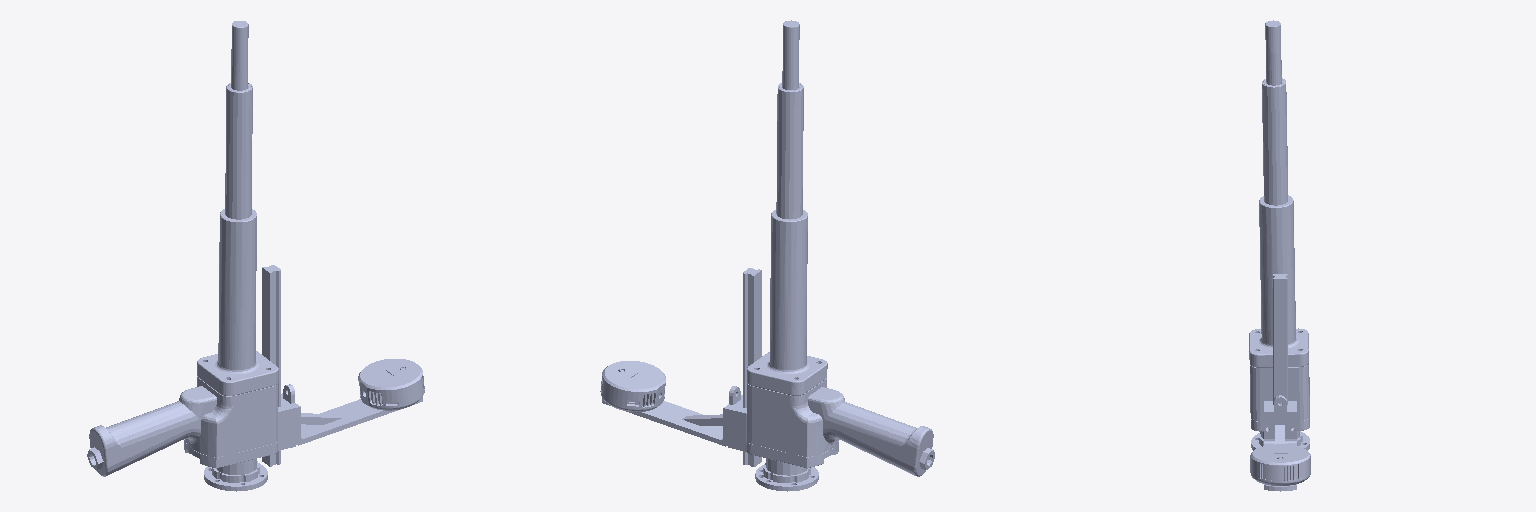
The robot description file, URDF, robot "endeffector":
<?xml version="1.0" encoding="utf-8"?>
<!-- This URDF was automatically created by SolidWorks to URDF Exporter! Originally created by [author] ([email redacted]) 
     Commit Version: 1.6.0-4-g7f85cfe  Build Version: 1.6.7995.38578
     For more information, please see http://wiki.ros.org/sw_urdf_exporter -->
<robot
  name="endeffector">
  <link
    name="endeffector_base_link">
    <inertial>
      <origin
        xyz="-0.0091552 -0.0017971 0.10907"
        rpy="0 0 0" />
      <mass
        value="0.6995" />
      <inertia
        ixx="0.00093618"
        ixy="-1.2386E-06"
        ixz="-2.4247E-05"
        iyy="0.0018881"
        iyz="9.7308E-06"
        izz="0.0012009" />
    </inertial>
    <visual>
      <origin
        xyz="0 0 0"
        rpy="0 0 0" />
      <geometry>
        <mesh
          filename="package://endeffector/meshes/endeffector_base_link.STL" />
      </geometry>
      <material
        name="">
        <color
          rgba="0.79216 0.81961 0.93333 1" />
      </material>
    </visual>
    <collision>
      <origin
        xyz="0 0 0"
        rpy="0 0 0" />
      <geometry>
        <mesh
          filename="package://endeffector/meshes/endeffector_base_link.STL" />
      </geometry>
    </collision>
  </link>
  <link
    name="camera_Link">
    <inertial>
      <origin
        xyz="-0.013488 -7.0938E-05 -0.013332"
        rpy="0 0 0" />
      <mass
        value="0.071592" />
      <inertia
        ixx="2.0232E-05"
        ixy="-4.6475E-08"
        ixz="-5.1114E-10"
        iyy="1.9381E-05"
        iyz="4.5469E-09"
        izz="3.1685E-05" />
    </inertial>
    <visual>
      <origin
        xyz="0 0 0"
        rpy="0 0 0" />
      <geometry>
        <mesh
          filename="package://endeffector/meshes/camera_Link.STL" />
      </geometry>
      <material
        name="">
        <color
          rgba="0.79216 0.81961 0.93333 1" />
      </material>
    </visual>
    <collision>
      <origin
        xyz="0 0 0"
        rpy="0 0 0" />
      <geometry>
        <mesh
          filename="package://endeffector/meshes/camera_Link.STL" />
      </geometry>
    </collision>
  </link>
  <joint
    name="camera_Joint"
    type="fixed">
    <origin
      xyz="0.18055 -0.00029745 0.071047"
      rpy="0.00018844 -0.10472 0" />
    <parent
      link="endeffector_base_link" />
    <child
      link="camera_Link" />
    <axis
      xyz="0 0 0" />
  </joint>
</robot>

--- What the picture shows (computed from the rendered views, not written in the file) ---
3 views of the same robot in one strip: view 1: azimuth 30°, elevation 25°; view 2: azimuth 150°, elevation 25°; view 3: azimuth 270°, elevation 25° (orthographic).
Robot: endeffector — 2 links, 1 joints (1 fixed); root link endeffector_base_link; default pose: all joints at 0.
Visible links, largest first — view 1: endeffector_base_link, camera_Link; view 2: endeffector_base_link, camera_Link; view 3: endeffector_base_link, camera_Link.
Boxes of the visible links, x1,y1,x2,y2 form: endeffector_base_link: [87, 21, 422, 491]; camera_Link: [358, 359, 424, 410]; endeffector_base_link: [602, 20, 934, 491]; camera_Link: [600, 361, 665, 411]; endeffector_base_link: [1249, 20, 1309, 491]; camera_Link: [1250, 444, 1310, 485].
Bounding box of the posed robot: 0.3556 × 0.0622 × 0.4719 m (x, y, z).
Meshes: 2 distinct files referenced, 2 mesh visuals loaded (2 binary STL).